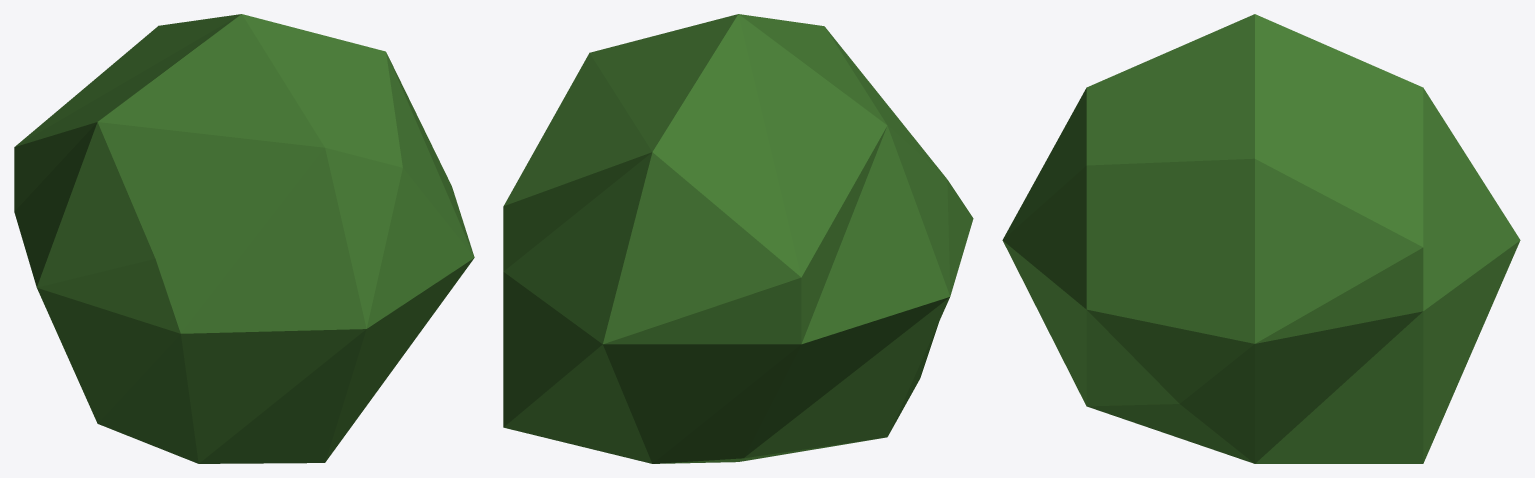
The model's file is Leaves.fbx.
3 renders of one model, left to right at view 1: azimuth 30°, elevation 25°; view 2: azimuth 150°, elevation 25°; view 3: azimuth 270°, elevation 25°, orthographic. The views are drawn at different scales.
Visible parts, largest first — view 1: Laub.006; view 2: Laub.006; view 3: Laub.006.
Boxes of the visible parts, x1=… form: Laub.006: x1=14, y1=14, x2=474, y2=463; Laub.006: x1=503, y1=14, x2=973, y2=463; Laub.006: x1=1002, y1=14, x2=1520, y2=463.
Bounding box in the file's own units: 288 × 287 × 308.
